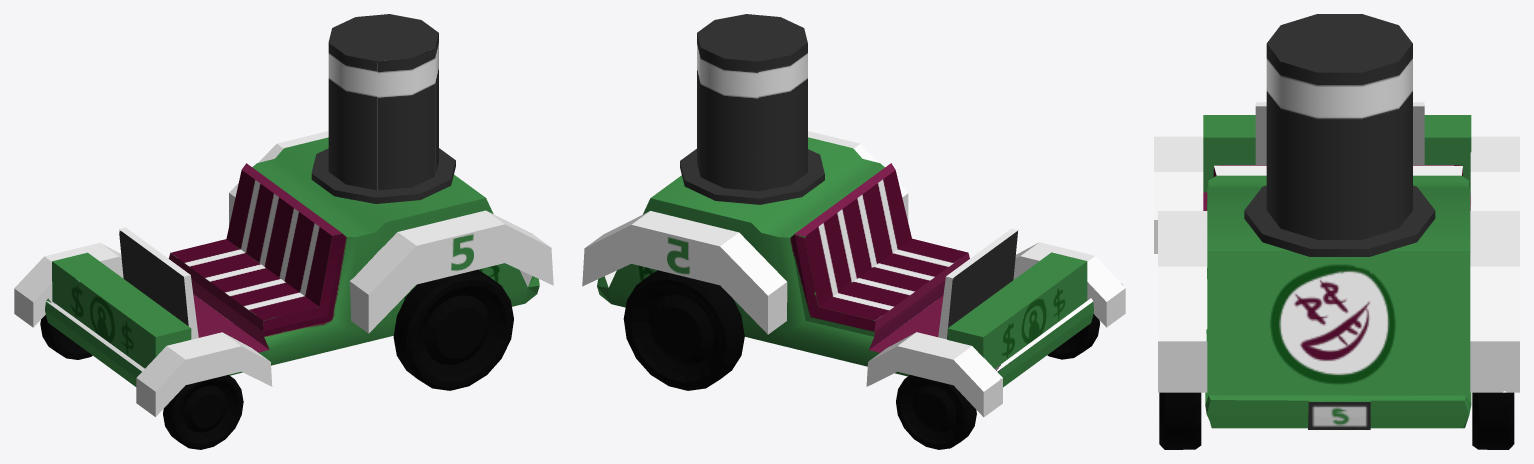
Rendered from MoneyCarColored3.fbx.
3 views of the same model, side by side, from view 1: azimuth 30°, elevation 25°; view 2: azimuth 150°, elevation 25°; view 3: azimuth 270°, elevation 25° (orthographic). The views are drawn at different scales.
Visible parts, largest first — view 1: Car Body, WheelBL001, WheelFL001, WheelFR; view 2: Car Body, WheelBR, WheelFR, WheelFL001; view 3: Car Body, WheelBR, WheelBL001.
Boxes of the visible parts, left/top/right/bottom form: Car Body: left=14, top=14, right=553, bottom=416; WheelBL001: left=393, top=269, right=513, bottom=390; WheelFL001: left=163, top=375, right=243, bottom=449; WheelFR: left=40, top=314, right=92, bottom=359; Car Body: left=582, top=14, right=1125, bottom=417; WheelBR: left=623, top=270, right=744, bottom=390; WheelFR: left=896, top=375, right=976, bottom=449; WheelFL001: left=1047, top=314, right=1099, bottom=359; Car Body: left=1154, top=14, right=1519, bottom=429; WheelBR: left=1472, top=392, right=1514, bottom=449; WheelBL001: left=1159, top=392, right=1201, bottom=449.
Bounding box in the file's own units: 5219 × 3717 × 3138.
Materials: 2 (1 with a texture image).
